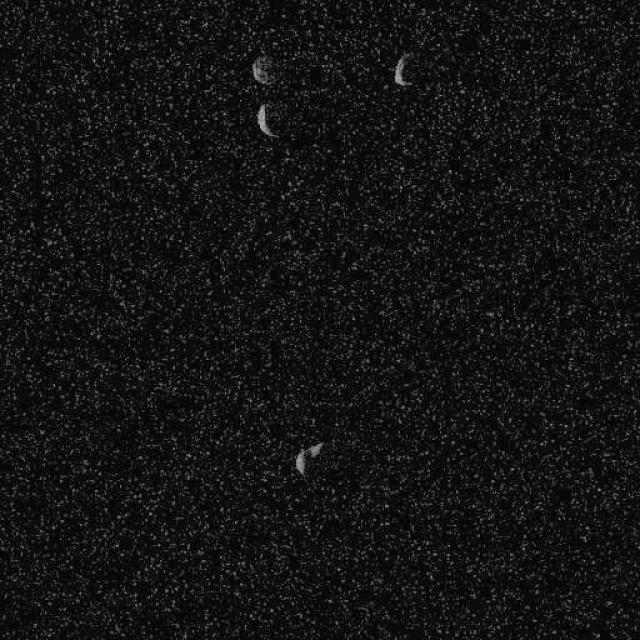D2: (294, 440, 324, 475), (252, 53, 278, 85), (255, 101, 277, 138), (392, 52, 412, 86)
